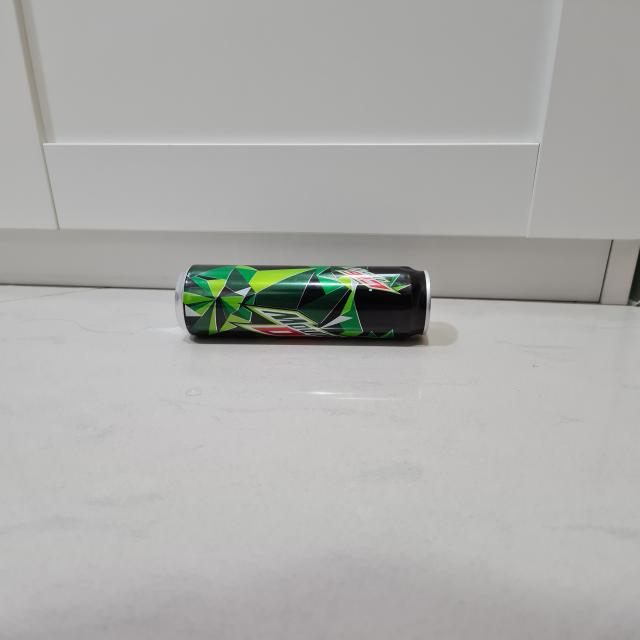non-organic waste: (177, 260, 436, 350)
